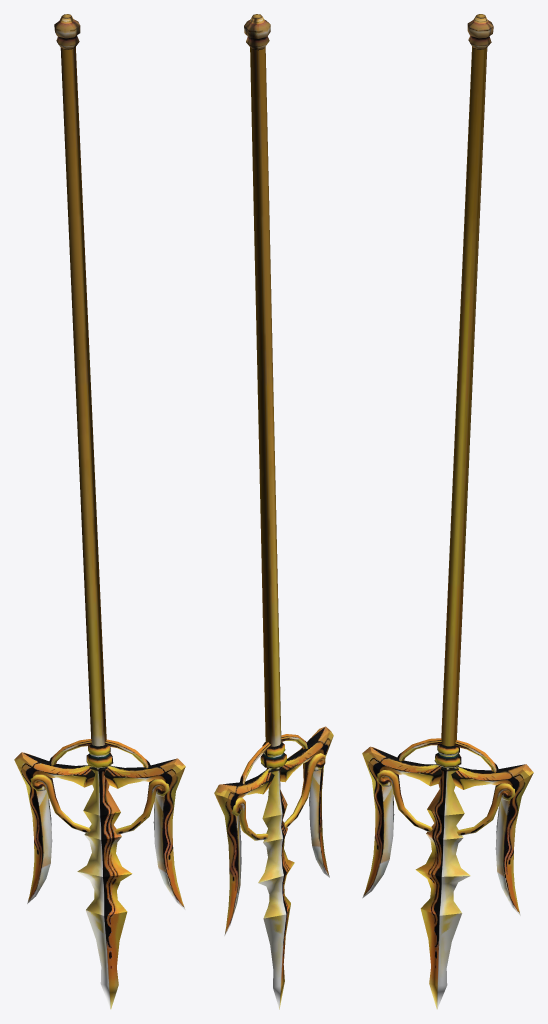
File: 13_chazi.fbx
3 views of the same model, side by side, from view 1: azimuth 90°, elevation 25°; view 2: azimuth 150°, elevation 25°; view 3: azimuth 270°, elevation 25° (orthographic).
Visible parts, largest first — view 1: at13_chazi; view 2: at13_chazi; view 3: at13_chazi.
Boxes of the visible parts, x1,y1,x2,y2 form: at13_chazi: (14,14,185,1009); at13_chazi: (214,14,333,1009); at13_chazi: (362,14,533,1009).
Bounding box in the file's own units: 0.2067 × 5.42 × 0.8475.
